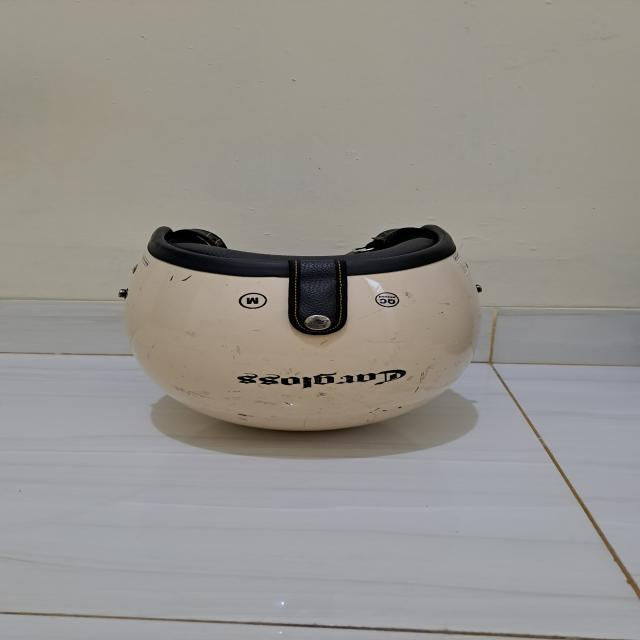Helm: (112, 218, 504, 443)
